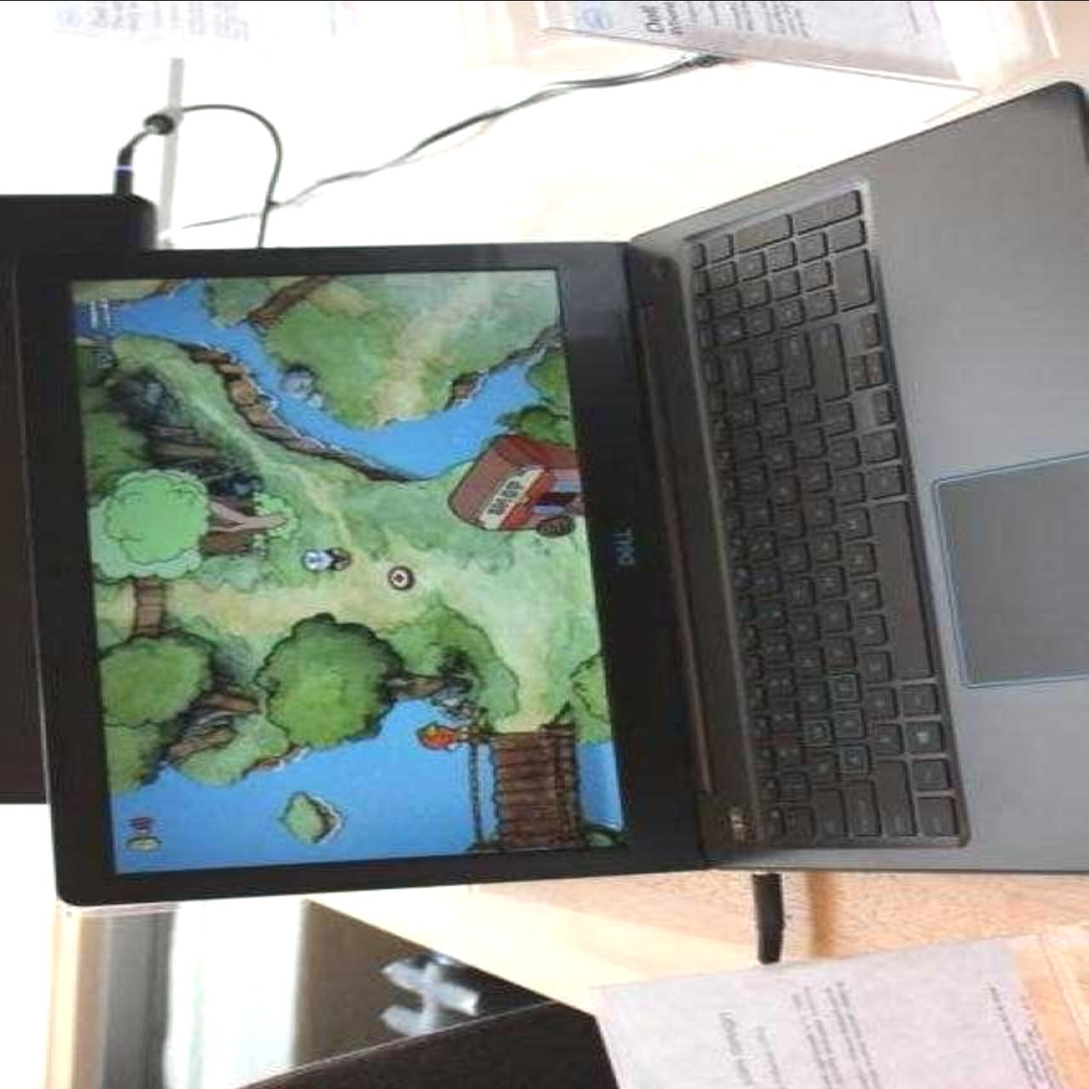laptop: (53, 220, 1089, 904)
